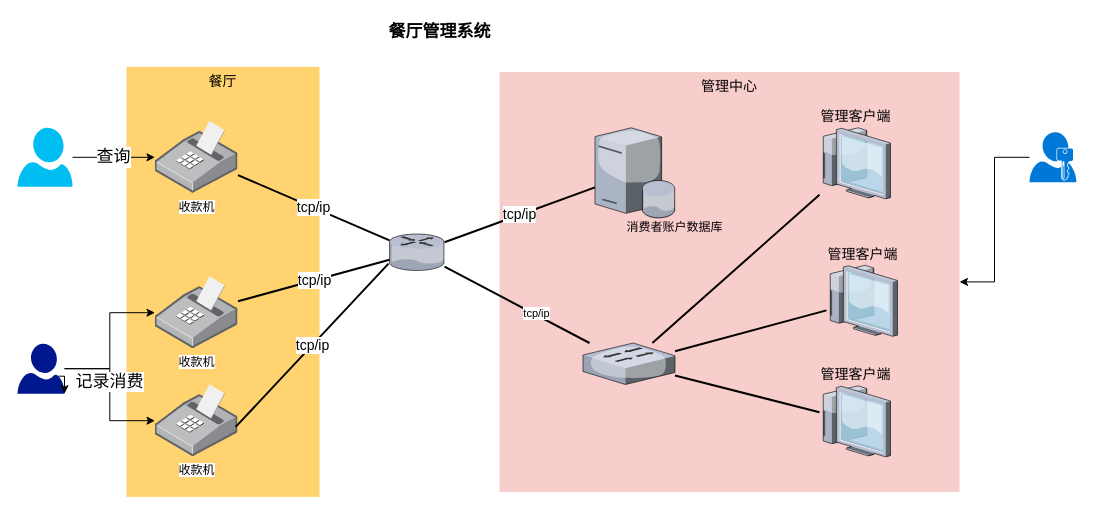
Some shapes in this 1093 by 514 pixel diagram are drawn without their labels. Each missing label, with the centre of its shape:
"服务员" belongs at point (40, 368).
"服务器" belongs at point (634, 172).
"消费者" belongs at point (44, 156).
"管理员" belongs at point (1052, 157).
